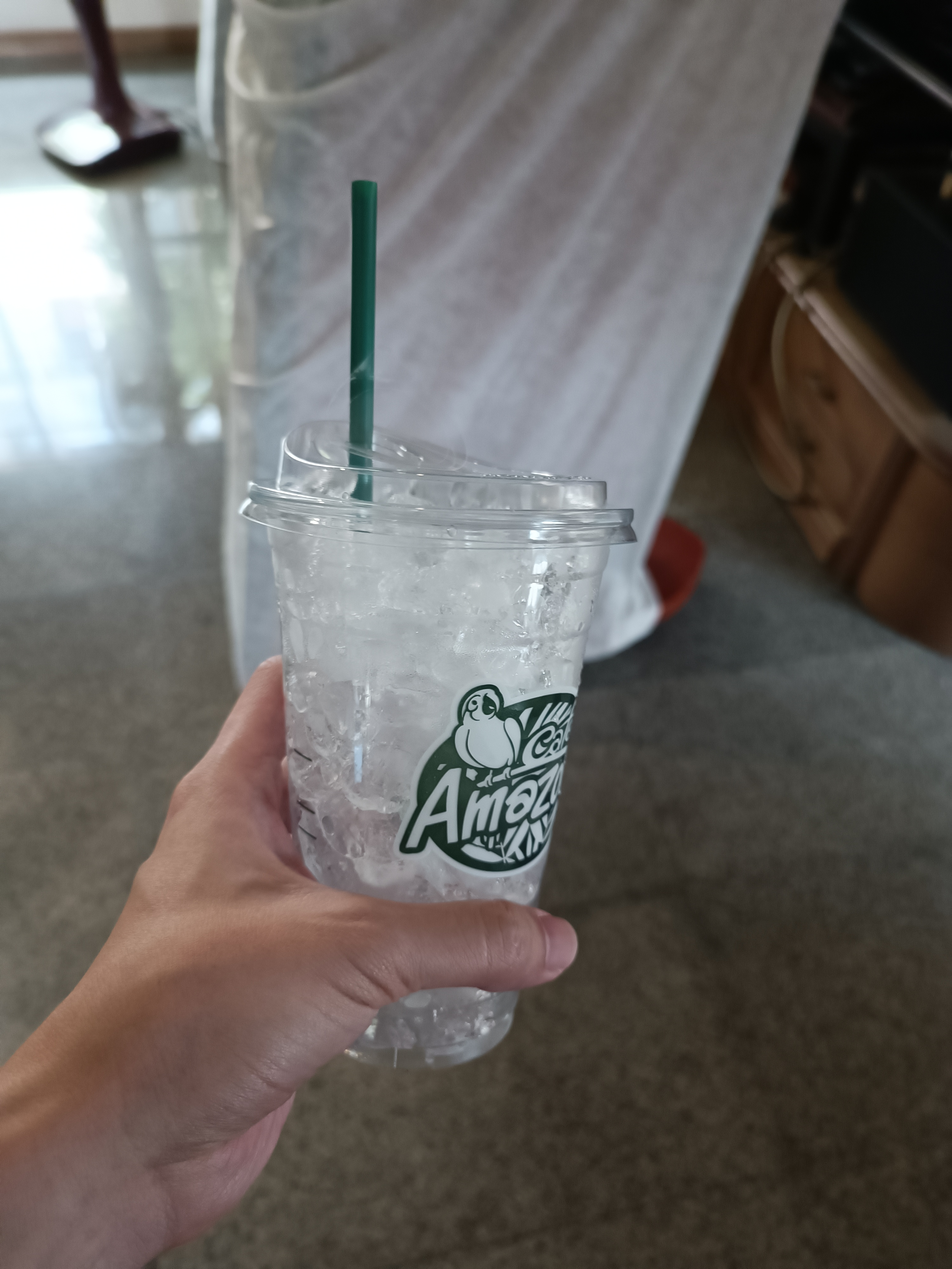plastic: (205, 167, 644, 1059)
